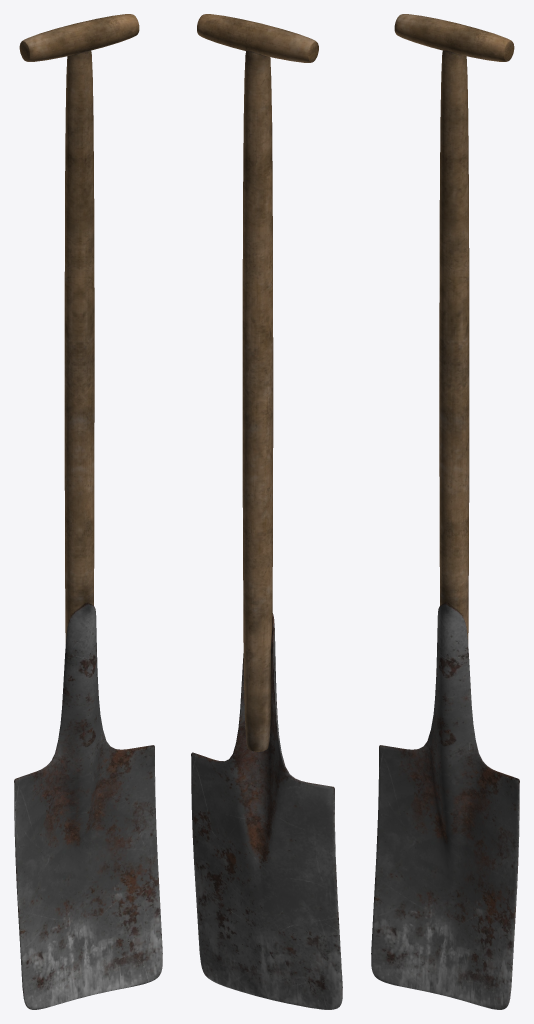
File: spade.glb
The picture shows the model from 3 angles, left to right: view 1: azimuth 30°, elevation 25°; view 2: azimuth 150°, elevation 25°; view 3: azimuth 330°, elevation 25°; orthographic projection. The views are drawn at different scales.
Parts seen in each view (by area): view 1: rusted_spade_01; view 2: rusted_spade_01; view 3: rusted_spade_01.
Part boxes in pixels (bbox=[...]): rusted_spade_01: bbox=[14, 14, 162, 1009]; rusted_spade_01: bbox=[191, 14, 342, 1009]; rusted_spade_01: bbox=[371, 14, 519, 1009].
Size of the model in its own units: 0.168 by 1.1 by 0.0455.
Materials: 1 (1 with a texture image).
